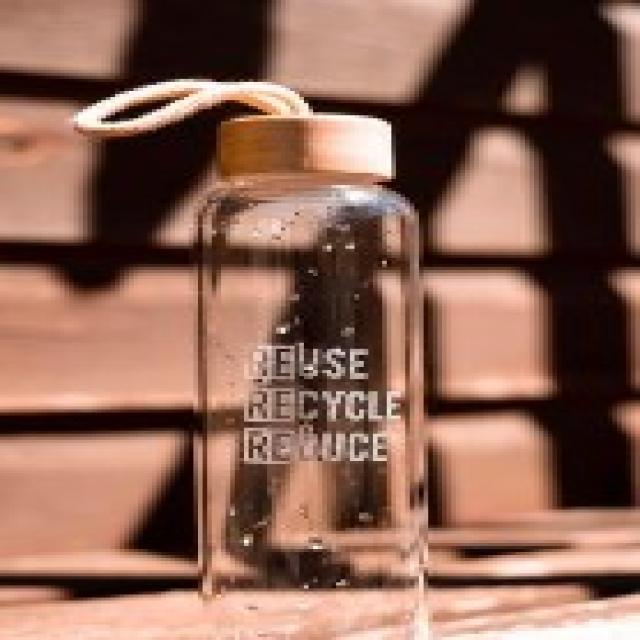electronic: (189, 115, 432, 640)
